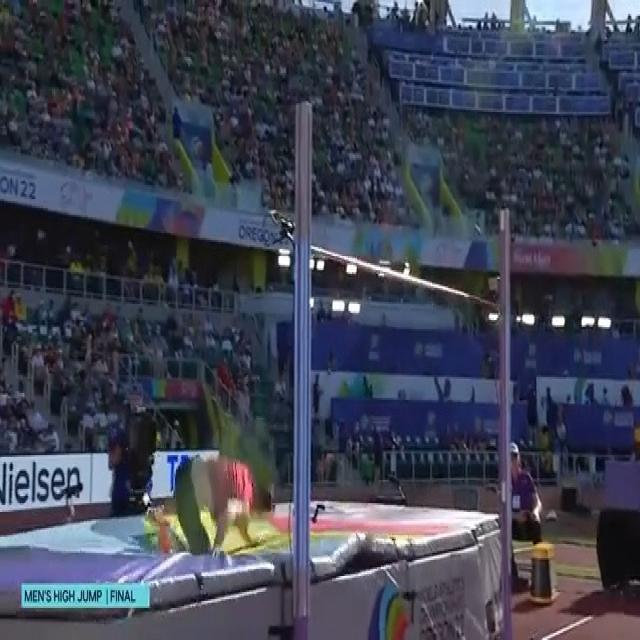land: (143, 449, 276, 560)
